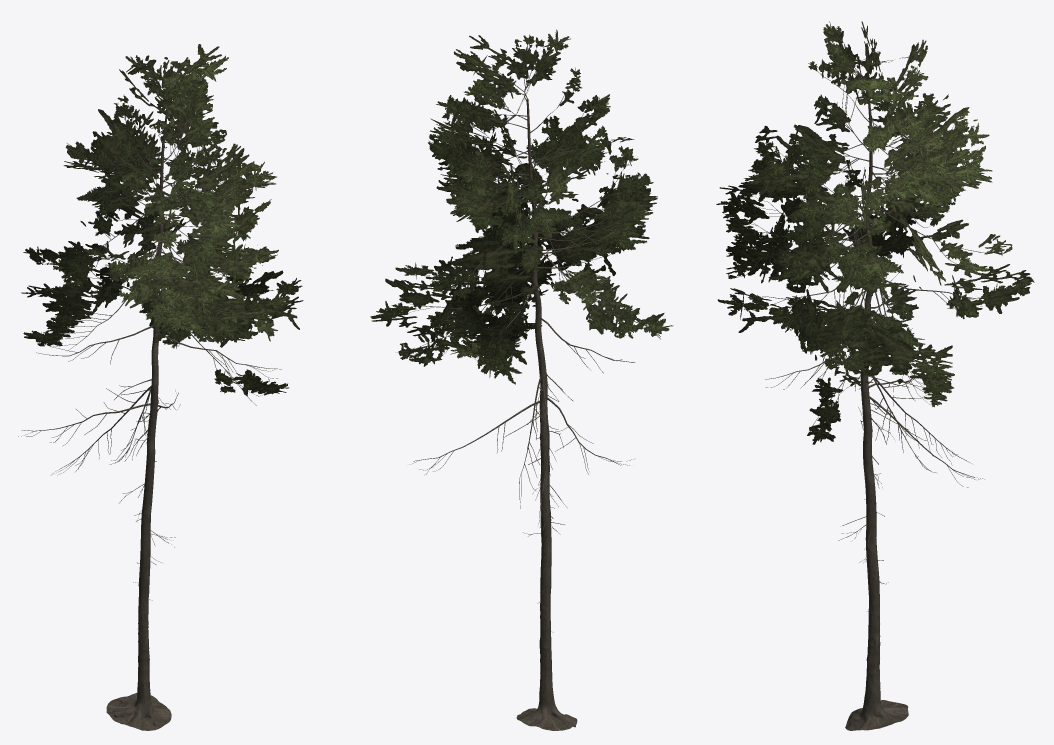
Rendered from tree.gltf.
3 views of the same model, side by side, from view 1: azimuth 30°, elevation 25°; view 2: azimuth 150°, elevation 25°; view 3: azimuth 270°, elevation 25° (orthographic). The views are drawn at different scales.
Visible parts, largest first — view 1: fir_c, fir_c_far; view 2: fir_c, fir_c_far; view 3: fir_c, fir_c_far.
Part boxes in pixels (bbox=[...]): fir_c: bbox=[18, 55, 302, 730]; fir_c_far: bbox=[21, 44, 303, 396]; fir_c: bbox=[370, 29, 673, 730]; fir_c_far: bbox=[371, 35, 664, 377]; fir_c: bbox=[716, 21, 1034, 730]; fir_c_far: bbox=[719, 21, 1031, 444].
Size of the model in its own units: 6.48 by 15.12 by 6.17.
4 materials, 4 textured.
